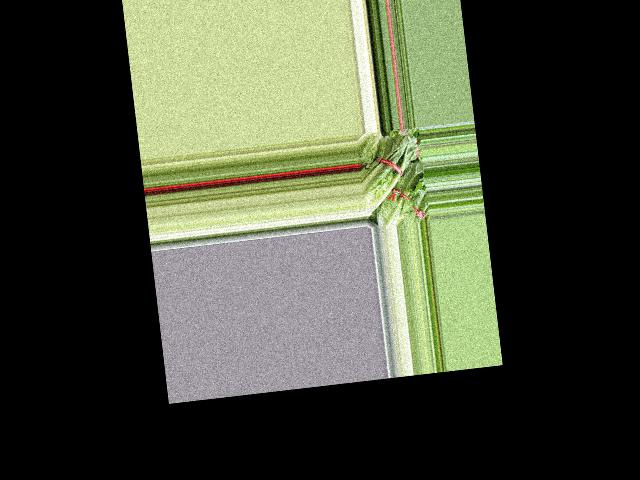lettuce: (356, 131, 425, 215)
